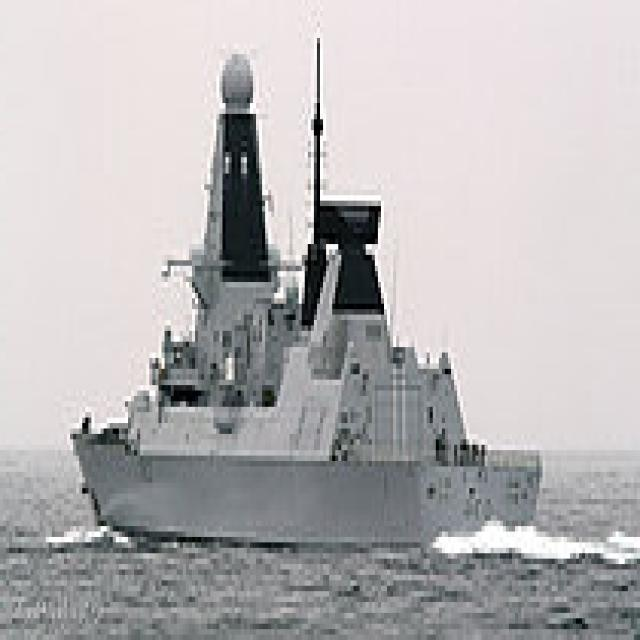Warship: (70, 27, 549, 548)
